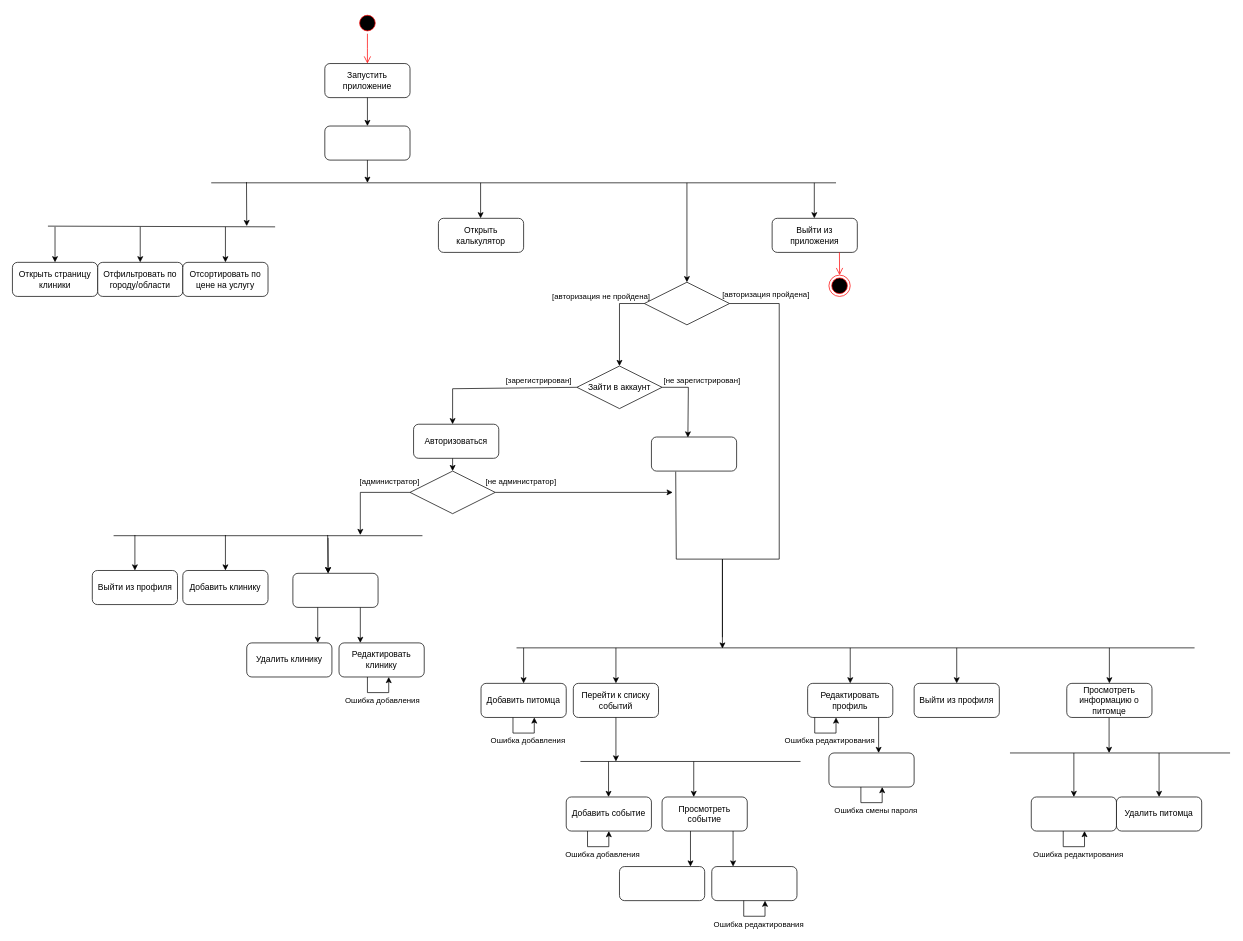
Some shapes in this 1243 by 941 pixel diagram are drawn without their labels. Here are the shapes that lost their labels. From the top down, the centre of each, then its label:
pixel 367 142: Просмотреть список клиник
pixel 687 303: Войти в профиль
pixel 694 453: Зарегистрироваться
pixel 452 492: Пользователь
pixel 335 590: Просмотреть клинику
pixel 871 769: Сменить пароль
pixel 1073 813: Редактировать питомца
pixel 662 883: Удалить событие
pixel 754 883: Редактировать событие
